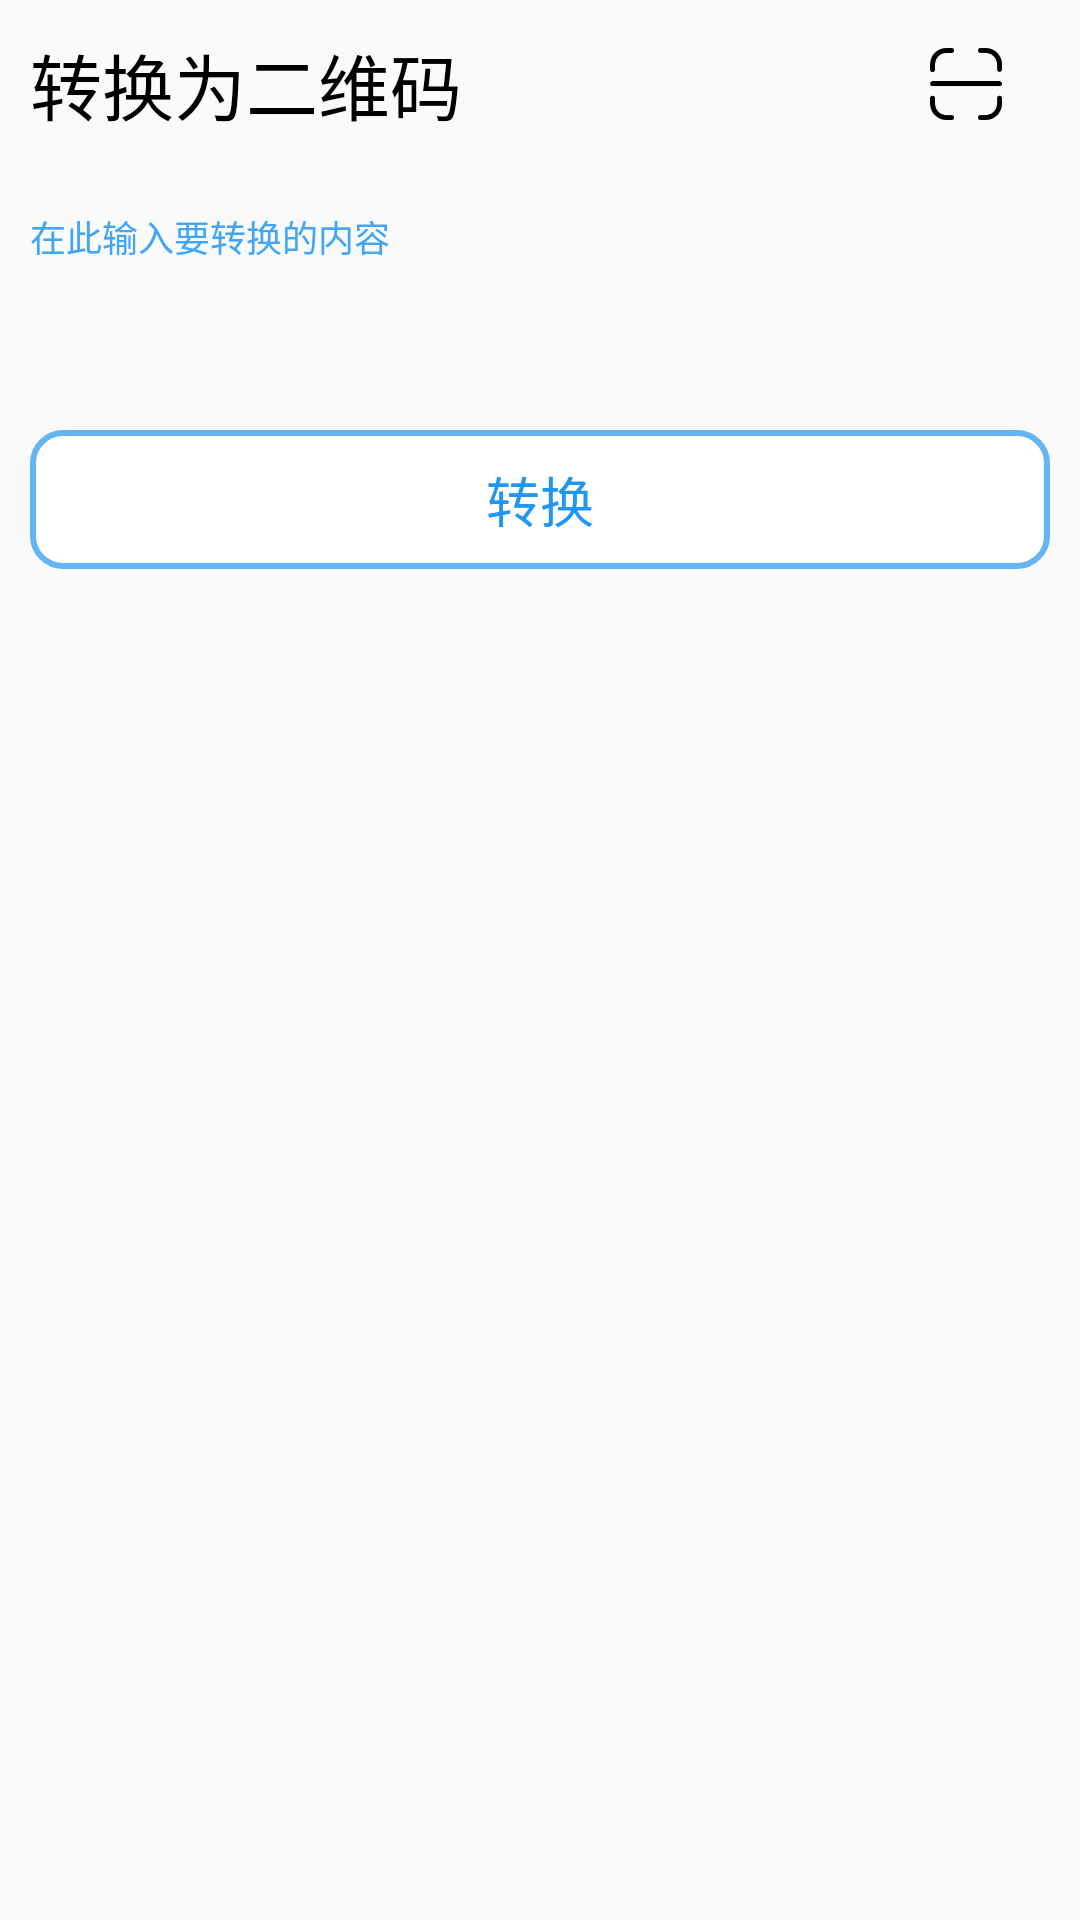

Screen size 1080x1920. Icon name, then its box in pixels as detection(x1, y1, x2, y2):
qr scan: detection(930, 48, 1002, 120)
